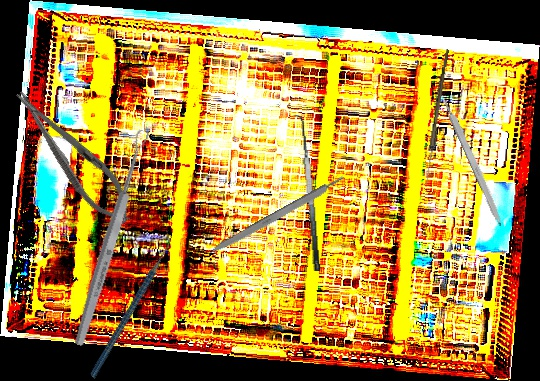Chopper: (50, 229, 210, 379)
Needle Holder: (4, 79, 143, 234)
Scalpel Handle: (208, 174, 347, 258), (441, 96, 506, 227)
Spatula Surgical: (289, 113, 322, 273)
Surgical Spoon: (71, 128, 152, 348), (423, 48, 450, 186)
